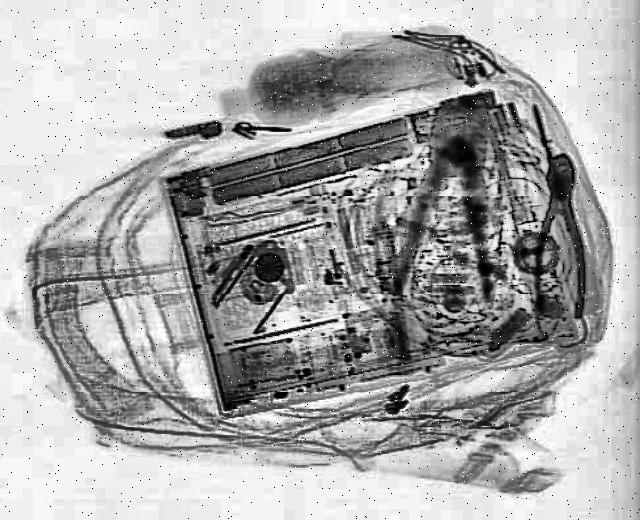Pliers: (390, 95, 520, 307), (536, 156, 592, 320)
